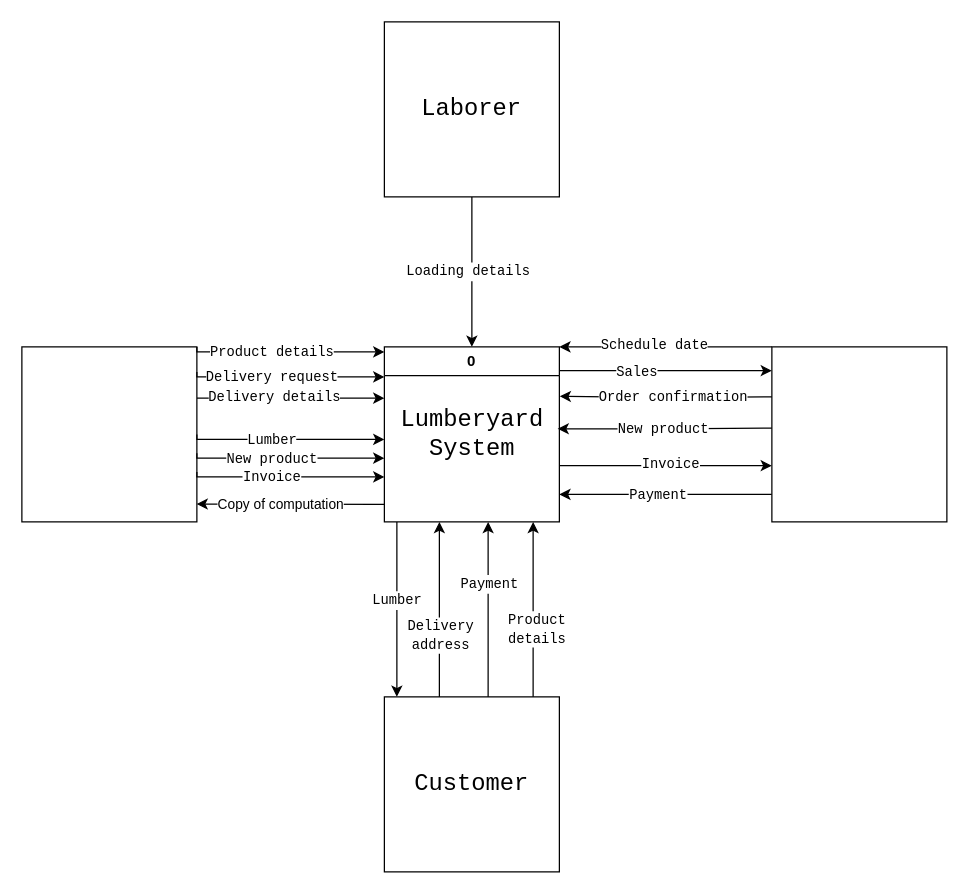
Some shapes in this 969 by 894 pixel diagram are drawn without their labels. Each missing label, with the centre of its shape:
"Owner" belongs at point (859, 434).
"Supplier" belongs at point (109, 434).
